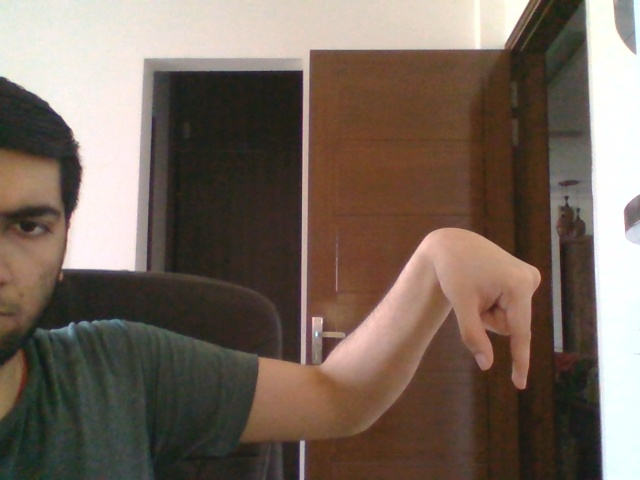LetterQ: (428, 223, 544, 392)
